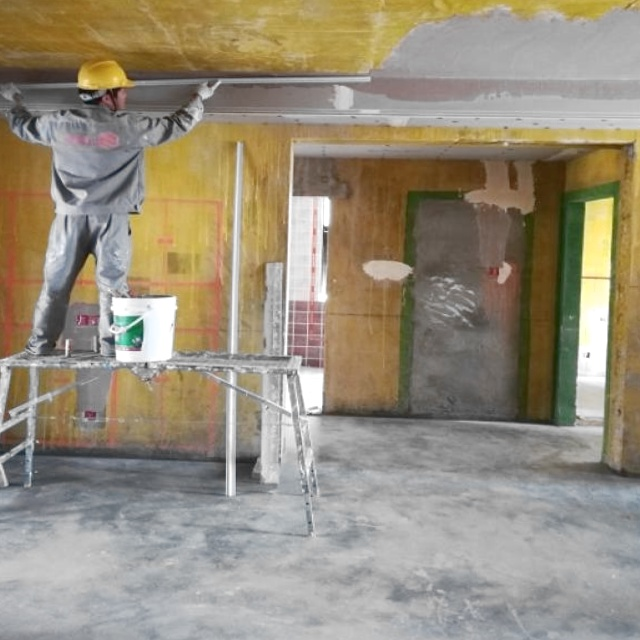Con_Casco: (77, 60, 133, 105)
Sin_Chaleco: (49, 108, 145, 210)
